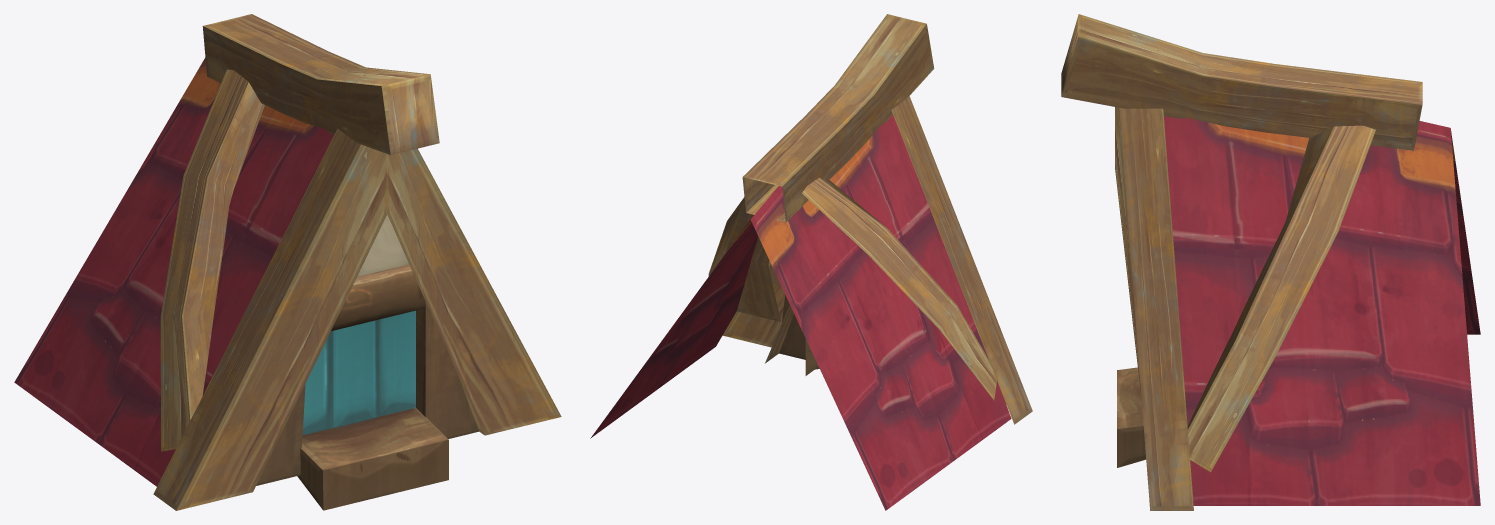
Rendered from house_upgrade_a.FBX.
3 renders of one model, left to right at view 1: azimuth 30°, elevation 25°; view 2: azimuth 150°, elevation 25°; view 3: azimuth 270°, elevation 25°, orthographic. The views are drawn at different scales.
Visible parts, largest first — view 1: house_upgrade_a; view 2: house_upgrade_a; view 3: house_upgrade_a.
Boxes of the visible parts, x1,y1,x2,y2 form: house_upgrade_a: [14, 14, 561, 510]; house_upgrade_a: [590, 14, 1032, 510]; house_upgrade_a: [1061, 14, 1480, 510].
Bounding box in the file's own units: 392 × 417 × 384.
2 materials, 2 textured.
